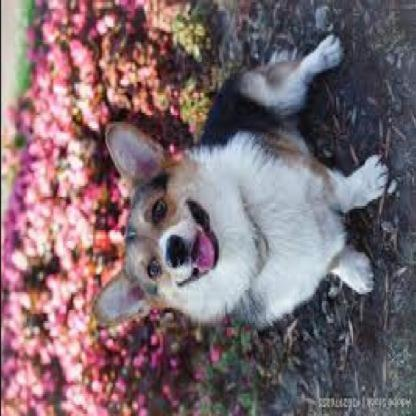dog: (90, 32, 391, 330)
